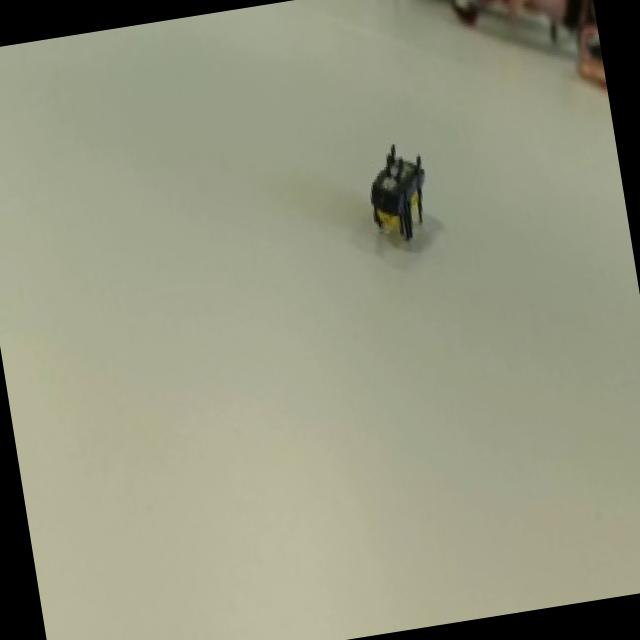6_NanoBug_GrisOscuro: (347, 96, 462, 277)
